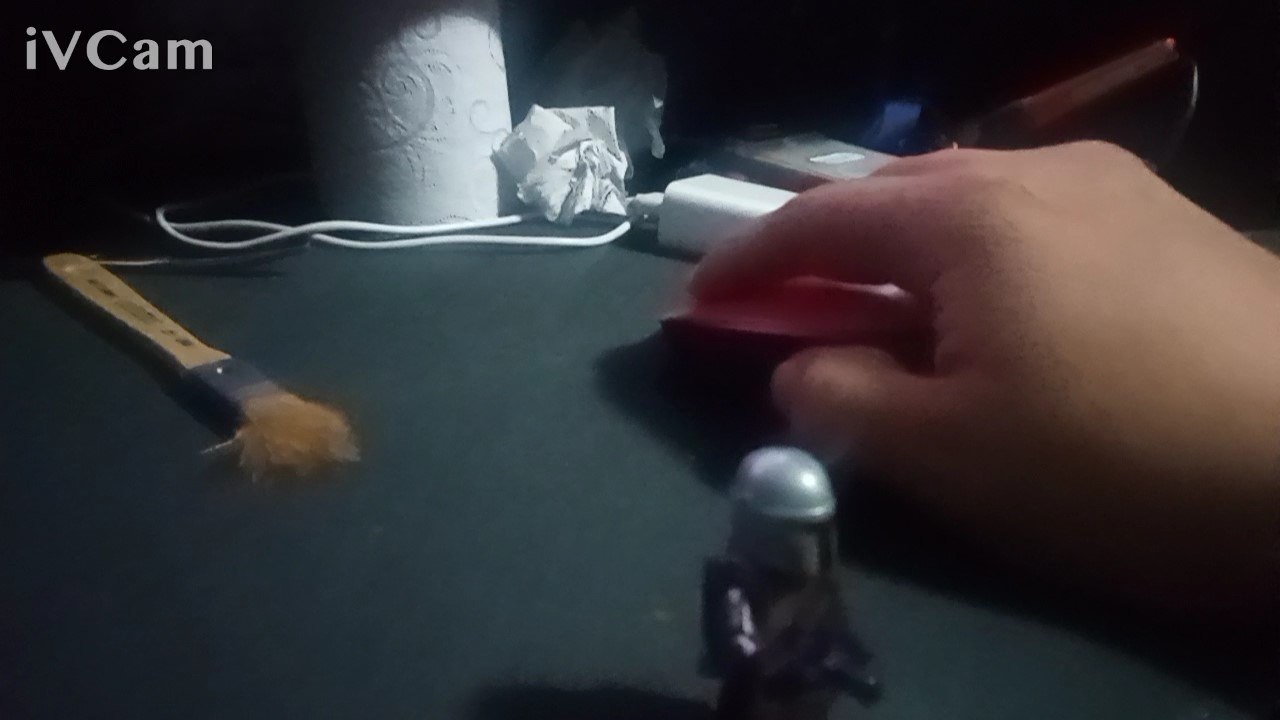mandalorian: (681, 439, 928, 715)
